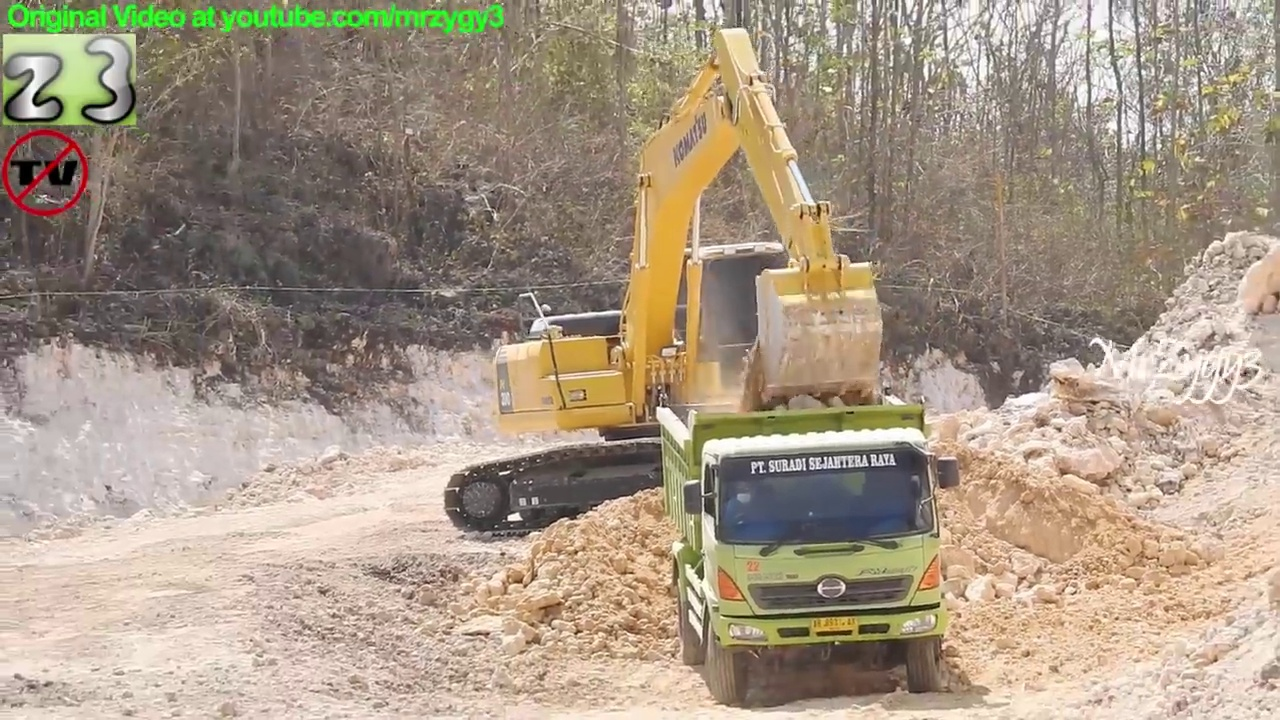excavator: (440, 24, 924, 545)
truck: (653, 386, 960, 707)
